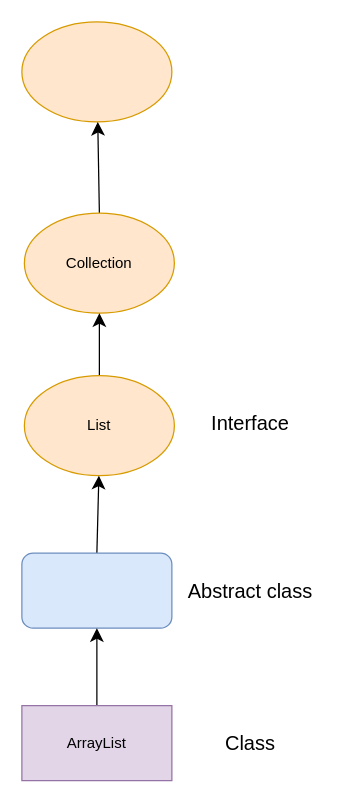
Some shapes in this 361 by 803 pixel diagram are drawn without their labels. The shapes that lost their labels are listed below. From the top down, each one's centre as x and y in pixels, then its label:
the point at 96,71: Iterable
the point at 96,590: ABSTRACTLIST
